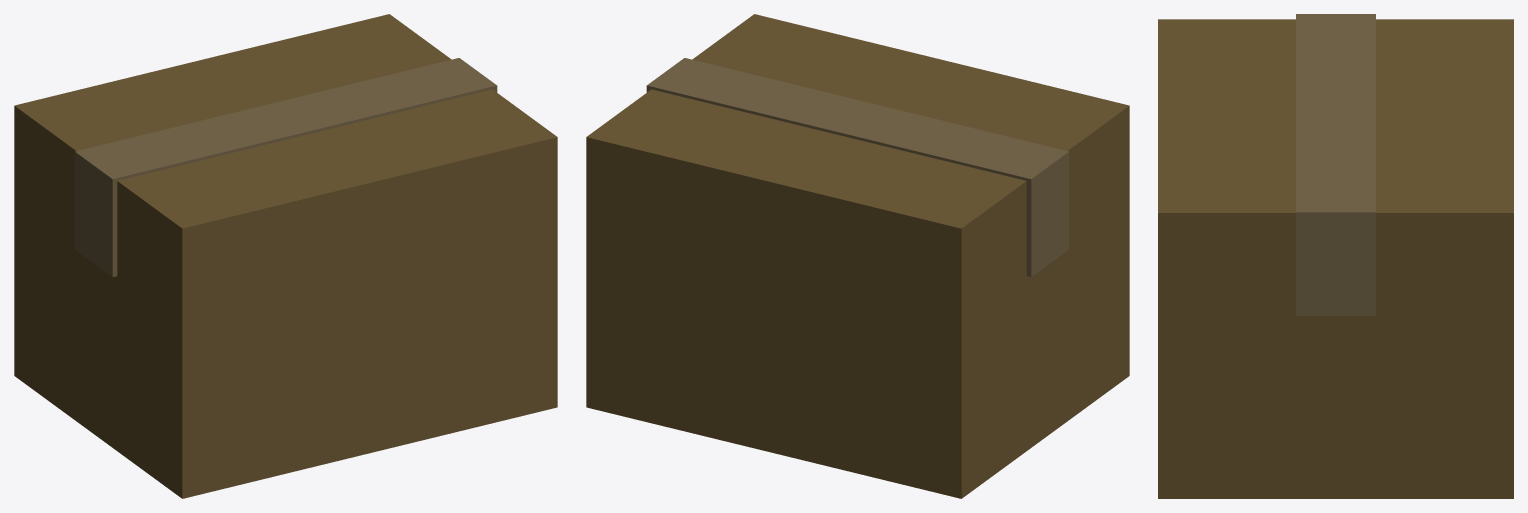
File: PackageBox.fbx
The picture shows the model from 3 angles, left to right: view 1: azimuth 30°, elevation 25°; view 2: azimuth 150°, elevation 25°; view 3: azimuth 270°, elevation 25°; orthographic projection. The views are drawn at different scales.
Parts seen in each view (by area): view 1: PackageBox; view 2: PackageBox; view 3: PackageBox.
Part boxes in pixels (x1,y1,x2,y2): PackageBox: (14, 14, 557, 498); PackageBox: (586, 14, 1129, 498); PackageBox: (1158, 14, 1513, 498).
Bounding box in the file's own units: 1.32 × 0.896 × 1.
